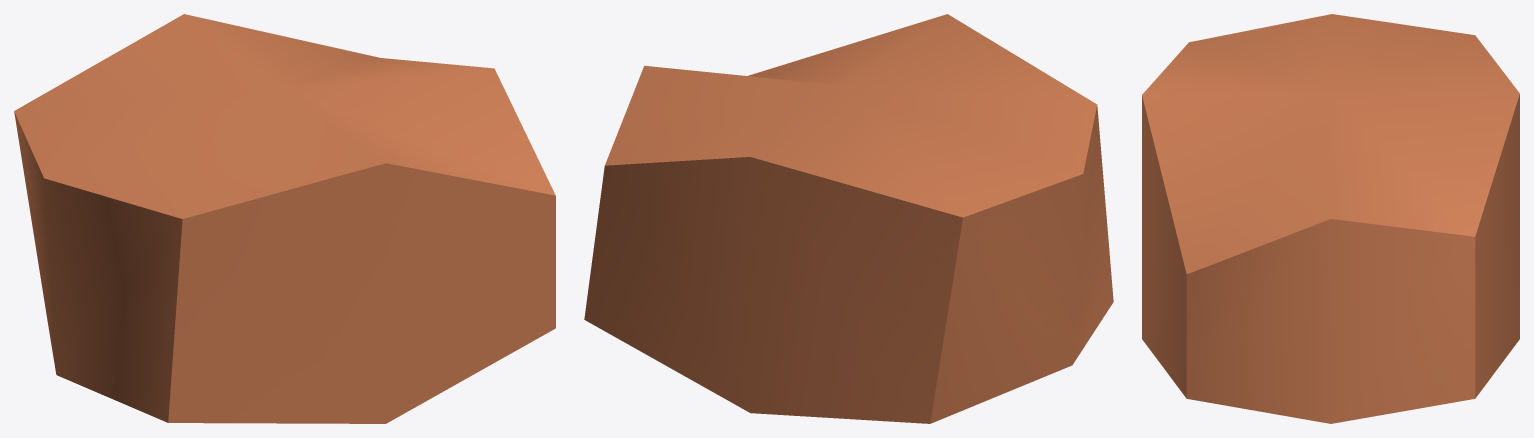
The picture shows the model from 3 angles, left to right: view 1: azimuth 30°, elevation 25°; view 2: azimuth 150°, elevation 25°; view 3: azimuth 270°, elevation 25°; orthographic projection. The views are drawn at different scales.
Visible parts, largest first — view 1: Box001; view 2: Box001; view 3: Box001.
Part boxes in pixels (left/top/right/bottom): Box001: left=14, top=14, right=555, bottom=423; Box001: left=584, top=14, right=1113, bottom=423; Box001: left=1142, top=14, right=1519, bottom=423.
Size of the model in its own units: 145 by 74.09 by 103.
